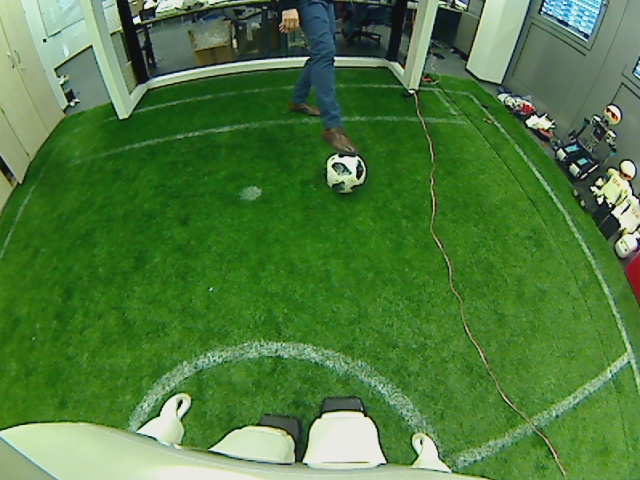ball: (324, 149, 368, 193)
